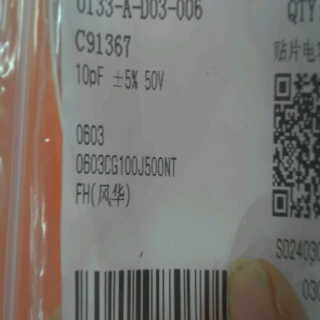10pF: (71, 57, 111, 89)
